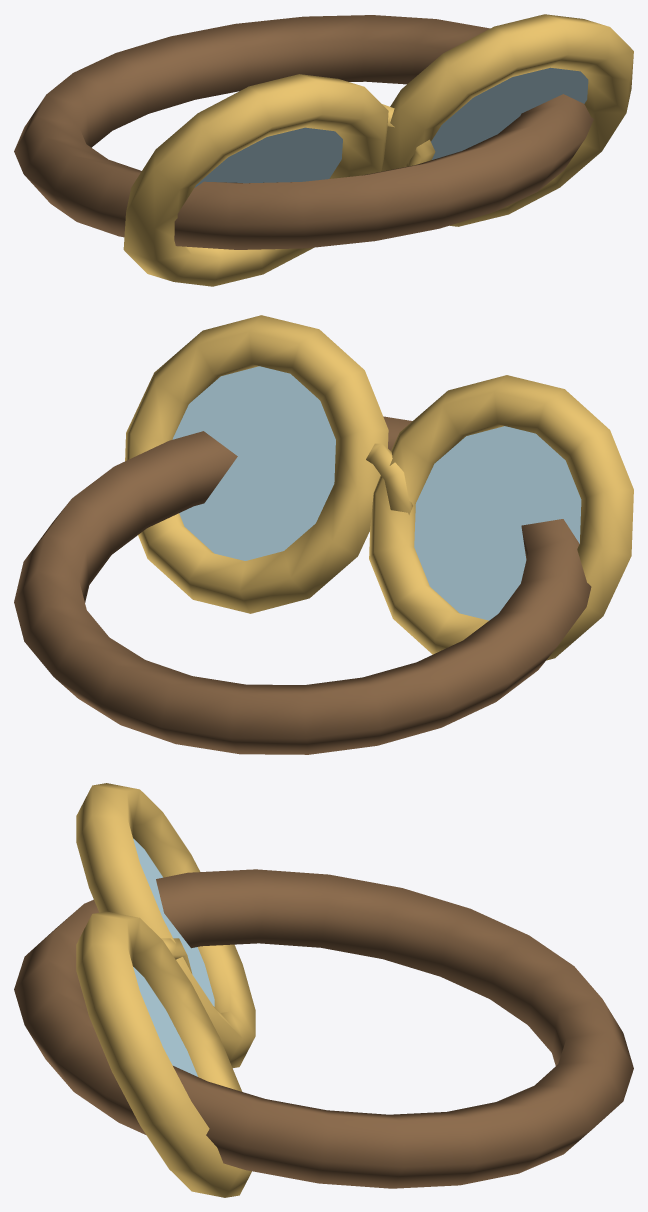
File: toad-acc-goggles.glb
The picture shows the model from 3 angles, top to bottom: view 1: azimuth 30°, elevation 25°; view 2: azimuth 150°, elevation 25°; view 3: azimuth 270°, elevation 25°; orthographic projection. The views are drawn at different scales.
Visible parts, largest first — view 1: bizzy-goggles; view 2: bizzy-goggles; view 3: bizzy-goggles.
Part boxes in pixels (box(x1,y1,x2,y2)): bizzy-goggles: box(14, 14, 633, 286); bizzy-goggles: box(14, 315, 633, 754); bizzy-goggles: box(14, 783, 633, 1197).
Bounding box in the file's own units: 0.0103 × 0.00456 × 0.0102.
